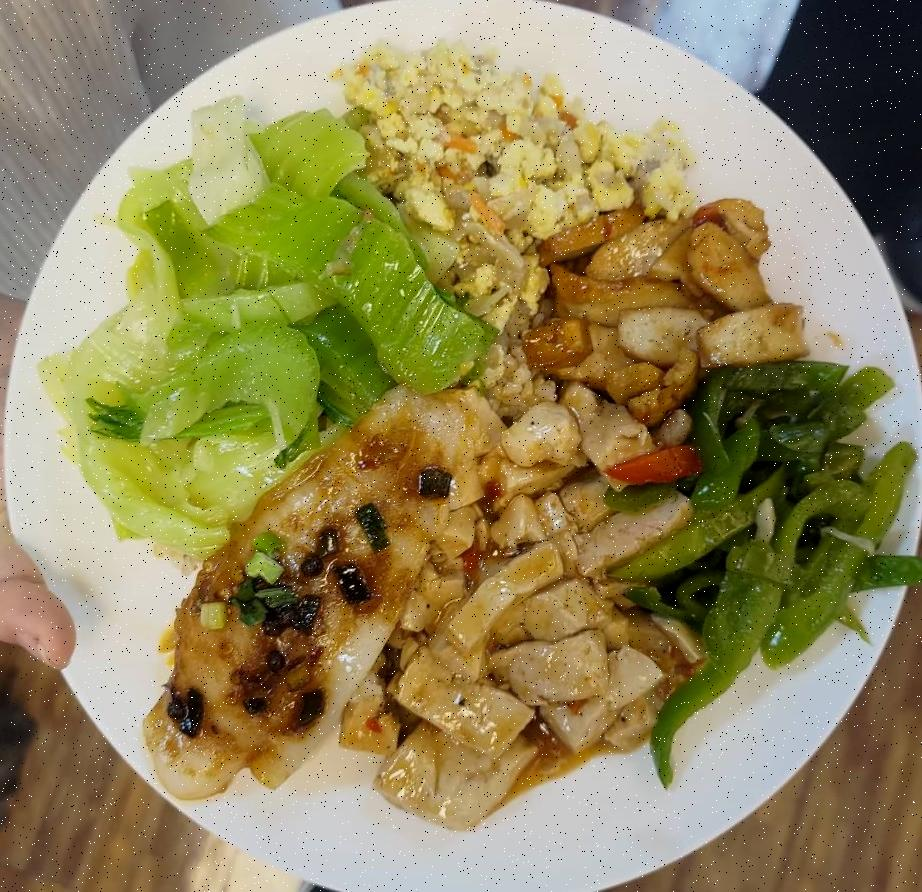braised fish fillet: (121, 380, 496, 794)
plate: (23, 17, 908, 877)
side dish: (70, 112, 448, 536), (410, 396, 688, 819), (332, 33, 660, 334), (643, 342, 904, 703), (518, 198, 799, 415)
